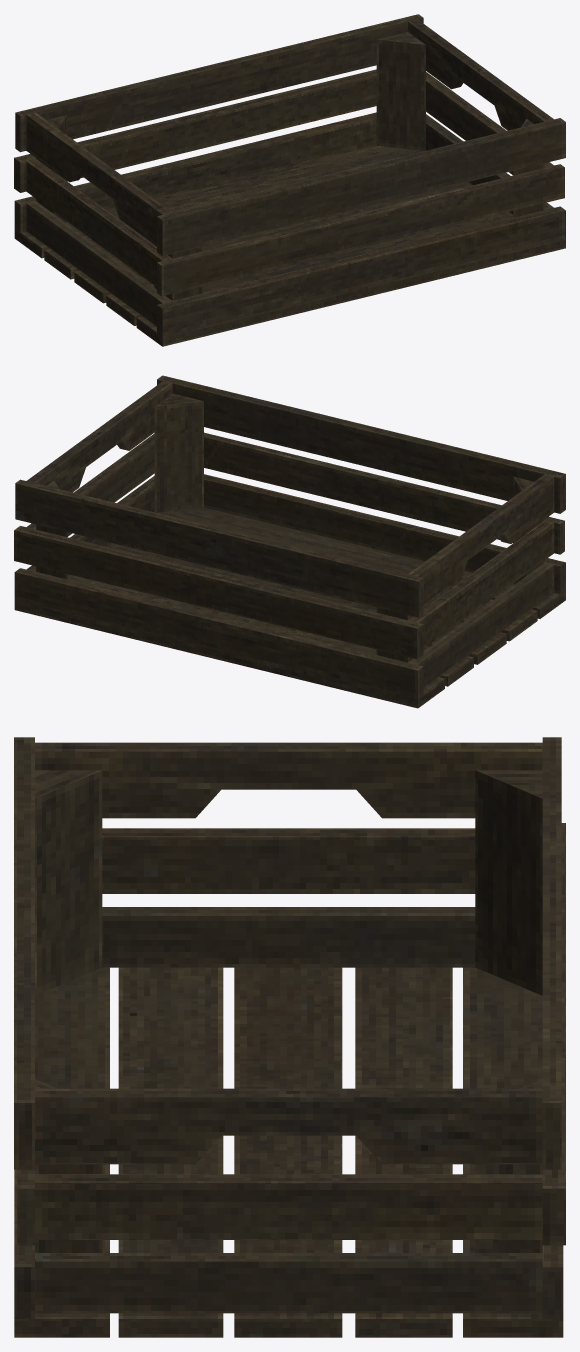
Rendered from supply_crate_1_1_empty.glb.
3 renders of one model, top to bottom at view 1: azimuth 30°, elevation 25°; view 2: azimuth 150°, elevation 25°; view 3: azimuth 270°, elevation 25°, orthographic. The views are drawn at different scales.
Visible parts, largest first — view 1: supply_crate_1_1_empty; view 2: supply_crate_1_1_empty; view 3: supply_crate_1_1_empty.
Boxes of the visible parts, x1,y1,x2,y2 form: supply_crate_1_1_empty: [14, 14, 565, 346]; supply_crate_1_1_empty: [14, 375, 565, 708]; supply_crate_1_1_empty: [14, 737, 565, 1337].
Size of the model in its own units: 0.668 by 0.2 by 0.4262.
Materials: 1 (1 with a texture image).
